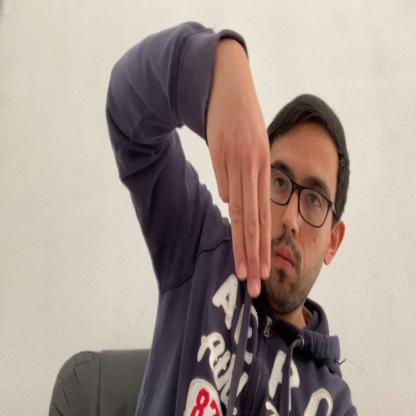M: (208, 60, 271, 298)
